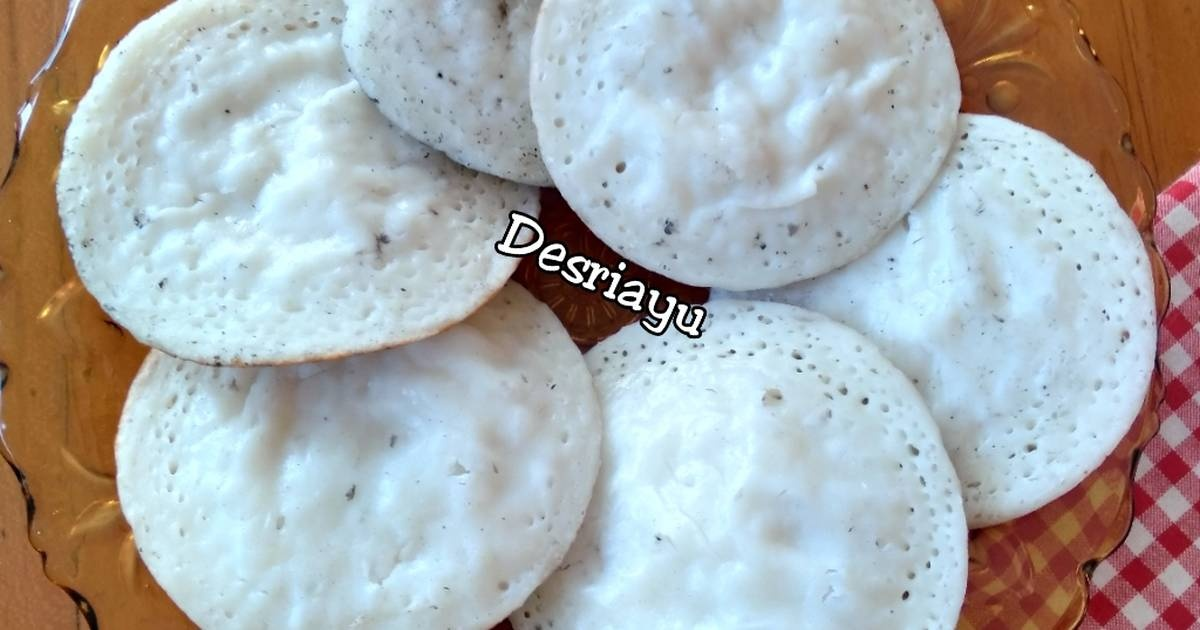srabi: (57, 4, 538, 347), (526, 3, 1005, 297)
